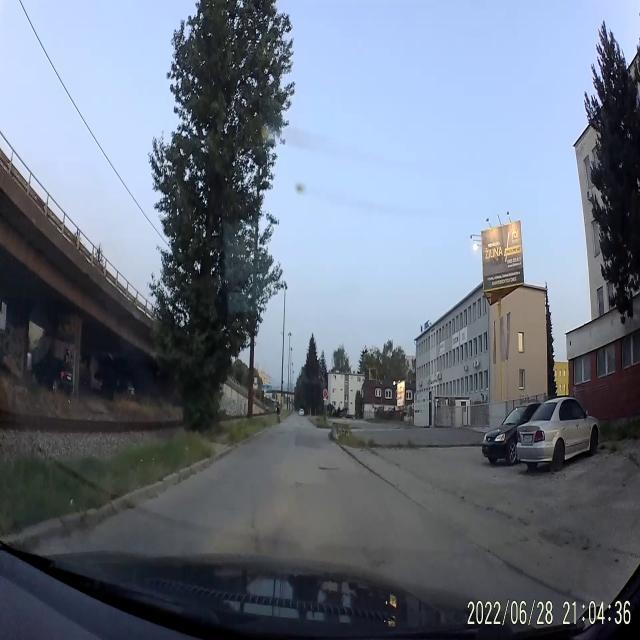Pothole: (318, 462, 337, 473)
